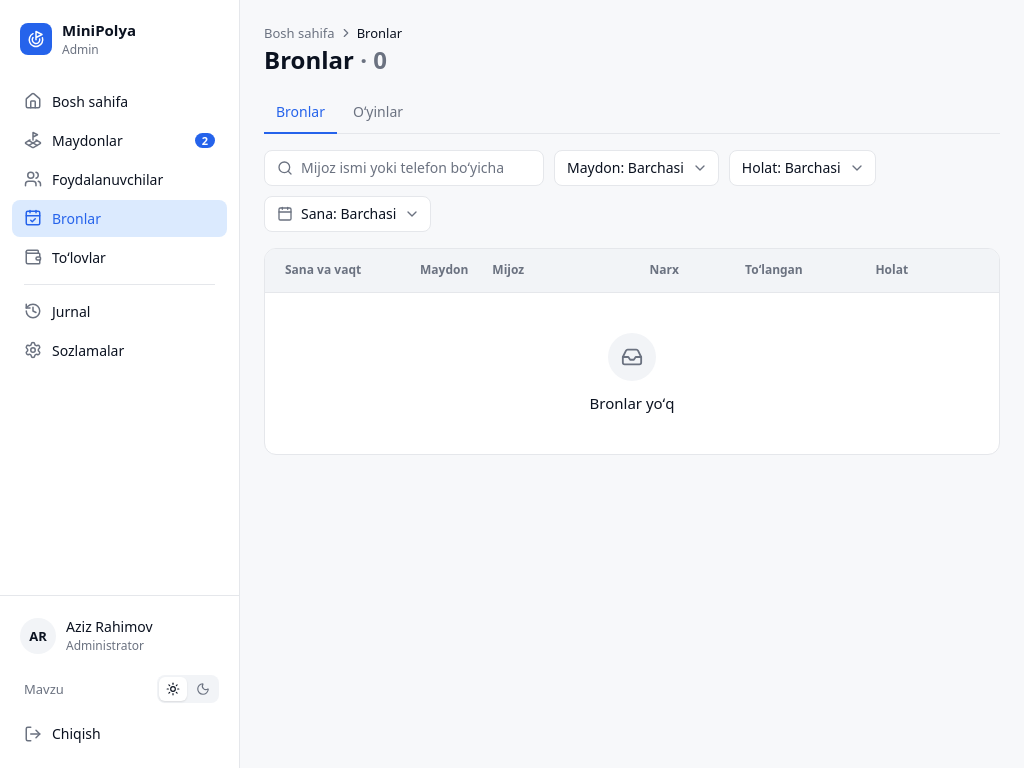
Test case: Bronlar › shows empty and error states
Expected: the text "Bronlar yoʻq" is shown, [590,394,674,414]
Select "Kutilmoqda" in the dropdown labelled "Holat" at (802, 168), box [729,150,876,186]
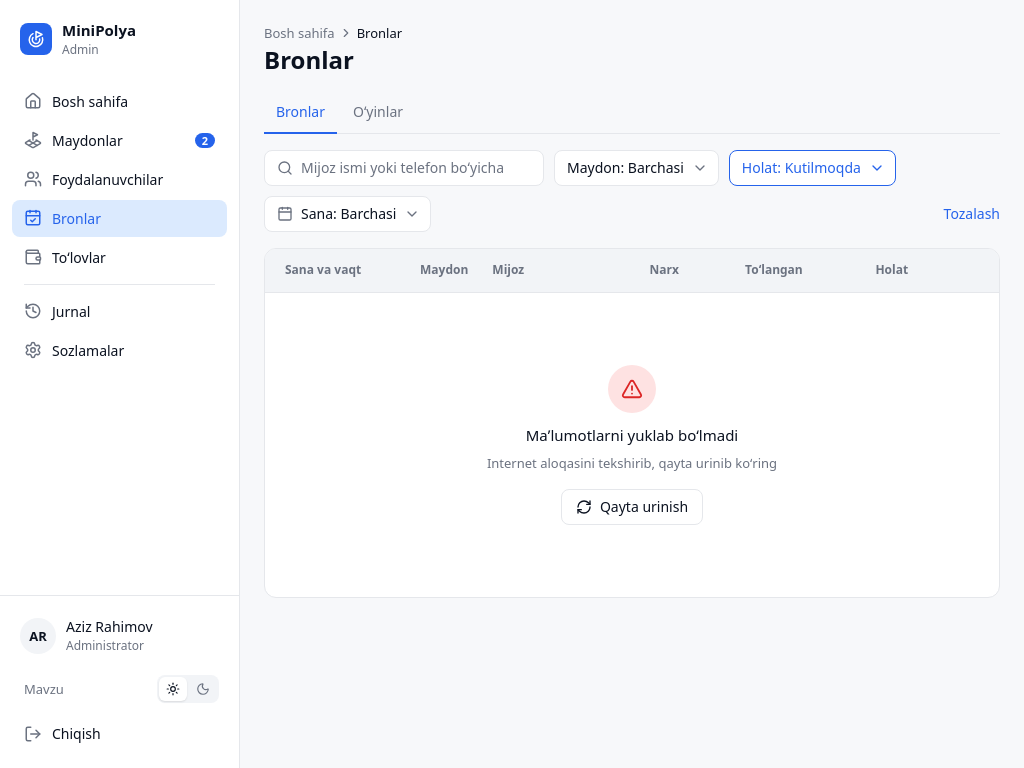
Expected: the message is shown, [487,366,777,525]
